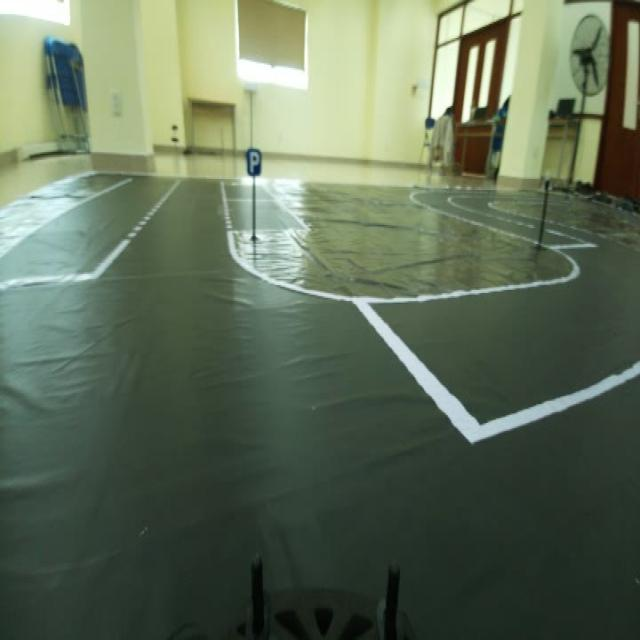parking: (240, 144, 266, 182)
